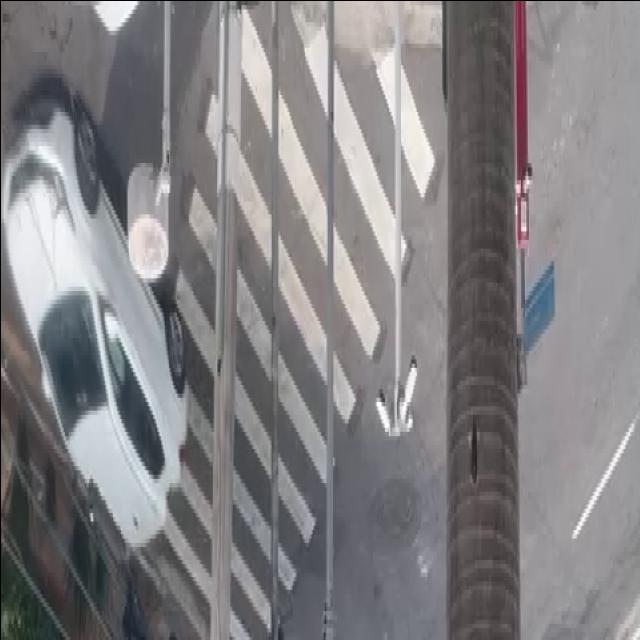car: (0, 104, 187, 544)
